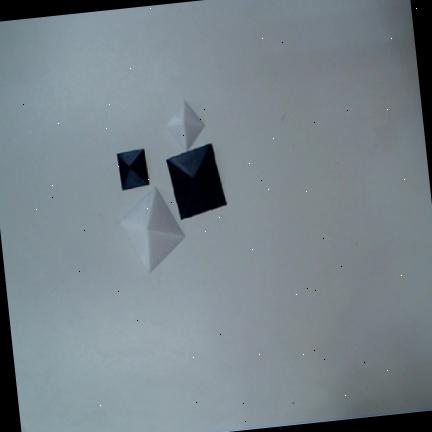Piramide: (119, 185, 185, 273), (165, 142, 227, 220), (167, 101, 204, 150), (116, 148, 150, 190)
